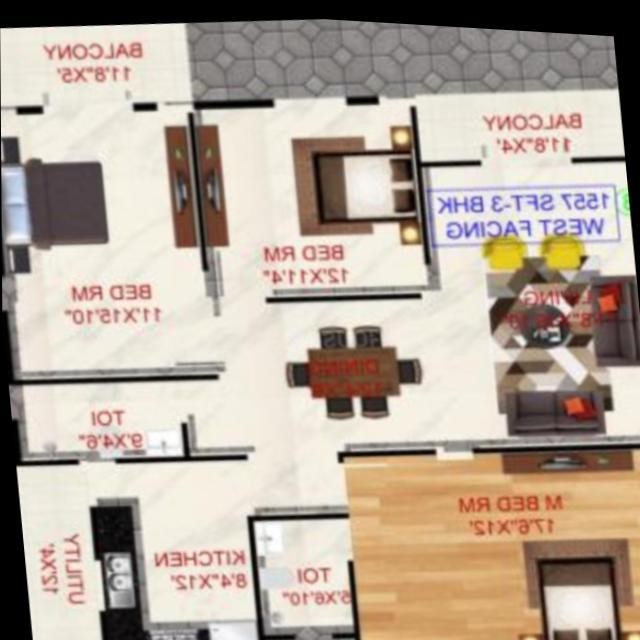Balcony-Sitout: (416, 74, 625, 161), (0, 19, 190, 104)
Bedroom: (1, 97, 217, 385), (187, 85, 434, 303)
Bedroom with Toilet: (248, 439, 640, 640)
Dining: (275, 318, 426, 418)
Kitchen: (127, 448, 263, 640)
Living: (416, 146, 640, 447)
Toilet: (6, 368, 190, 466), (245, 504, 359, 640)
Utility: (14, 457, 150, 640)
